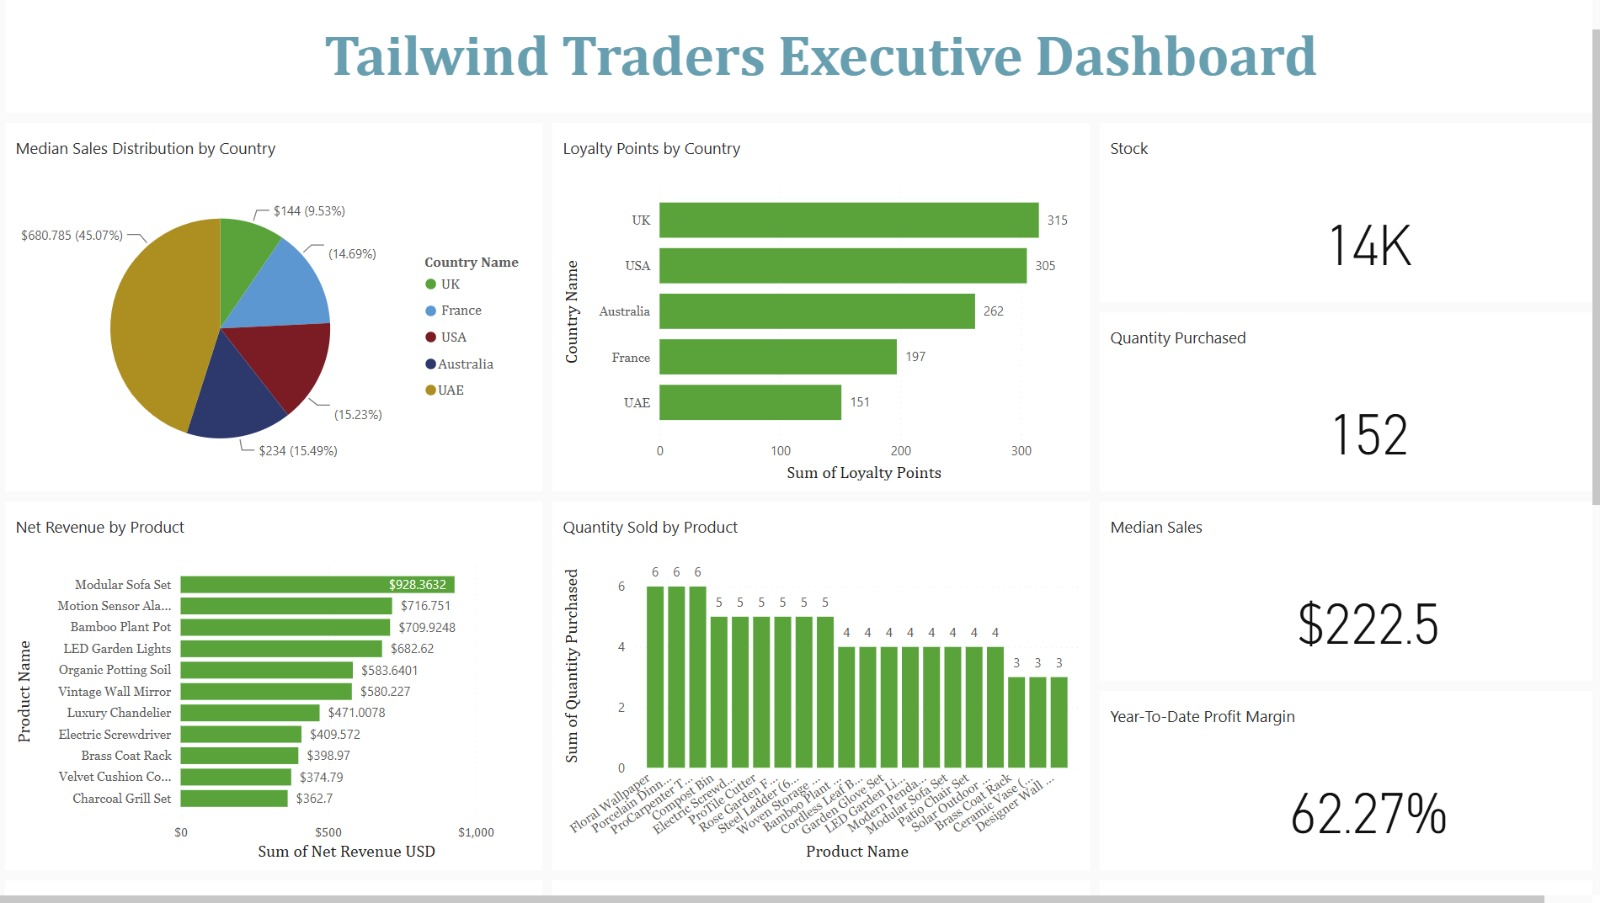

The dashboard page shown, as its layout file describes it:
{"tool":"powerbi","page":{"name":"Sales Overview","canvas":[1280,720],"ordinal":0},"visuals":[{"type":"clusteredBarChart","title":"Loyalty Points by Country","fields":{"Y":["Sum(Sales in USD. Loyalty Points)"],"Category":["Sales in USD.Country Name"]},"box":[8.5,167.1,572,257.3],"z":0},{"type":"clusteredColumnChart","title":"Quantity Sold by Product","fields":{"Category":["Sales in USD.Product Name"],"Y":["Sum(Sales in USD.Quantity Purchased)"]},"box":[593.9,167.1,676.8,257.3],"z":1000},{"type":"pieChart","title":"Median Sales Distribution by Country","fields":{"Category":["Sales in USD.Country Name"],"Y":["Sales in USD.Median Sales"]},"box":[7.8,435.1,572.7,274],"z":2000},{"type":"lineChart","title":"Median Sales Over Time","fields":{"Y":["Sales in USD.Median Sales"],"Category":["CalendarTable.Date.Variation.Date Hierarchy.Year","CalendarTable.Date.Variation.Date Hierarchy.Quarter","CalendarTable.Date.Variation.Date Hierarchy.Month","CalendarTable.Date.Variation.Date Hierarchy.Day"]},"box":[593.5,435.1,676.6,274],"z":3000},{"type":"card","title":"Stock","fields":{"Values":["Sum(Sales in USD. Stock  )"]},"box":[8.3,25,301.7,130],"z":4000},{"type":"card","title":"Quantity Purchased","fields":{"Values":["Sum(Sales in USD.Quantity Purchased)"]},"box":[316.7,25,335,130],"z":5000},{"type":"card","title":"Median Sales","fields":{"Values":["Sales in USD.Median Sales"]},"box":[657.5,25,326.9,130],"z":6000},{"type":"slicer","fields":{"Values":["Sales in USD.Country Name"]},"box":[992.7,25.6,278,129.3],"z":7000}]}

Visuals, with their boxes in screenshot pixels (x1, y1, x2, y2), scaled from the page's 1280x720 canvas onto the 1600x903 screenshot:
"Loyalty Points by Country" clusteredBarChart: <bbox>11, 210, 726, 532</bbox>
"Quantity Sold by Product" clusteredColumnChart: <bbox>742, 210, 1588, 532</bbox>
"Median Sales Distribution by Country" pieChart: <bbox>10, 546, 726, 889</bbox>
"Median Sales Over Time" lineChart: <bbox>742, 546, 1588, 889</bbox>
"Stock" card: <bbox>10, 31, 388, 194</bbox>
"Quantity Purchased" card: <bbox>396, 31, 815, 194</bbox>
"Median Sales" card: <bbox>822, 31, 1230, 194</bbox>
slicer - Sales in USD.Country Name: <bbox>1241, 32, 1588, 194</bbox>
